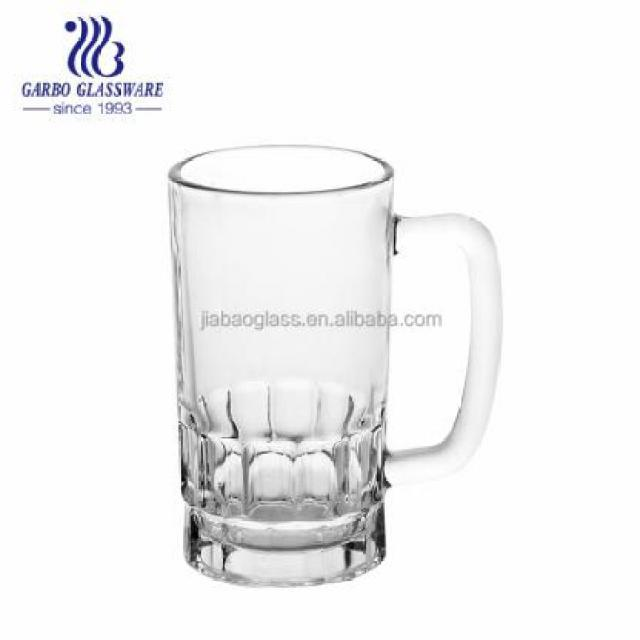taza: (170, 144, 508, 589)
